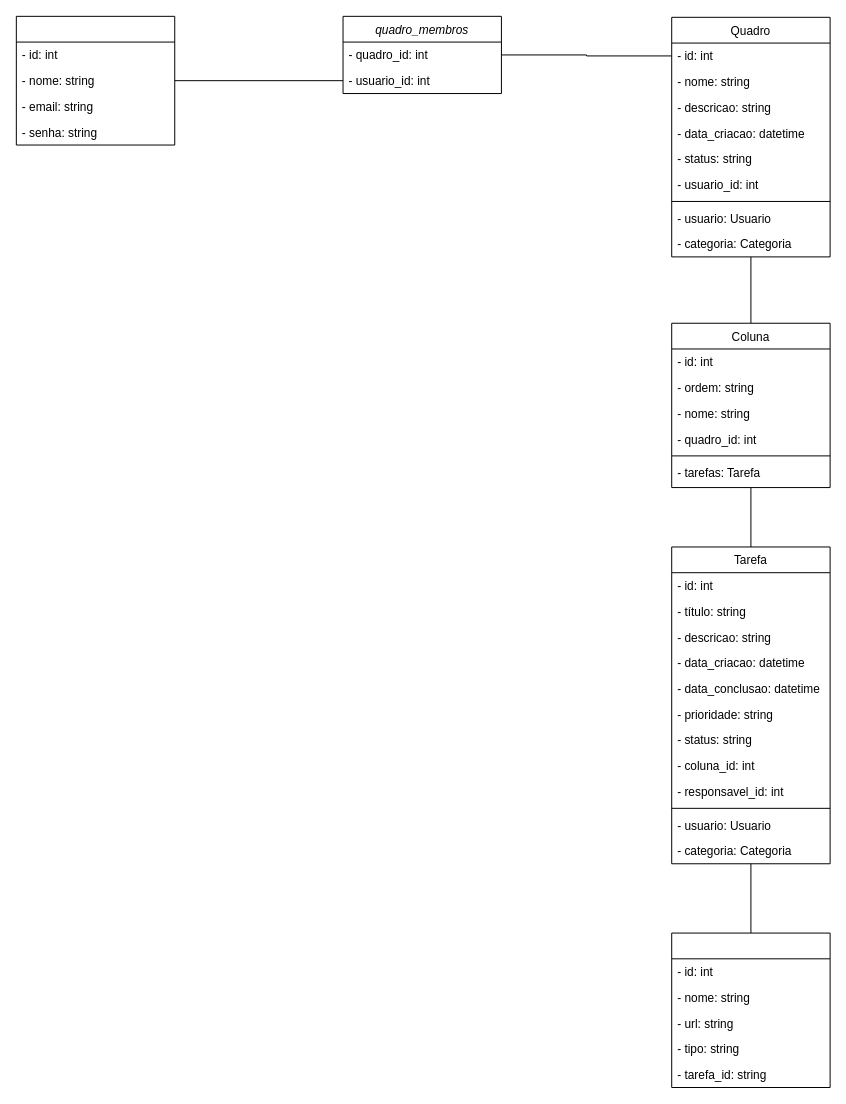
Some shapes in this 846 by 1104 pixel diagram are drawn without their labels. The box of each missing label's shape, as (x1, y1, x2, y2) in pixels:
Anexo: (671, 932, 830, 1088)
Usuario: (15, 15, 175, 145)
